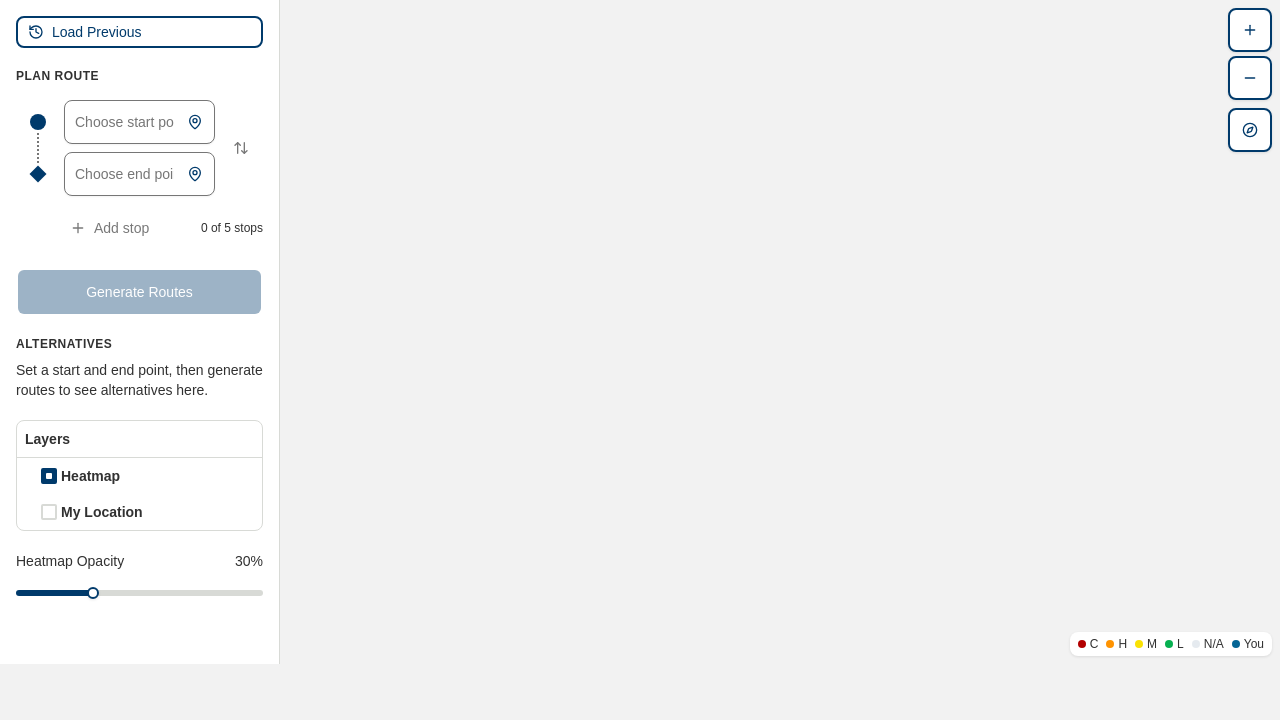
Test: PatrolPlannerPage › sending an already saved card to the heatmap does not save it again
The width and height of the screenshot is (1280, 720).
Step 1. Type "-24.3, 31.05" into the field labelled "Choose start point" → (140, 122), box [64,100,215,144]
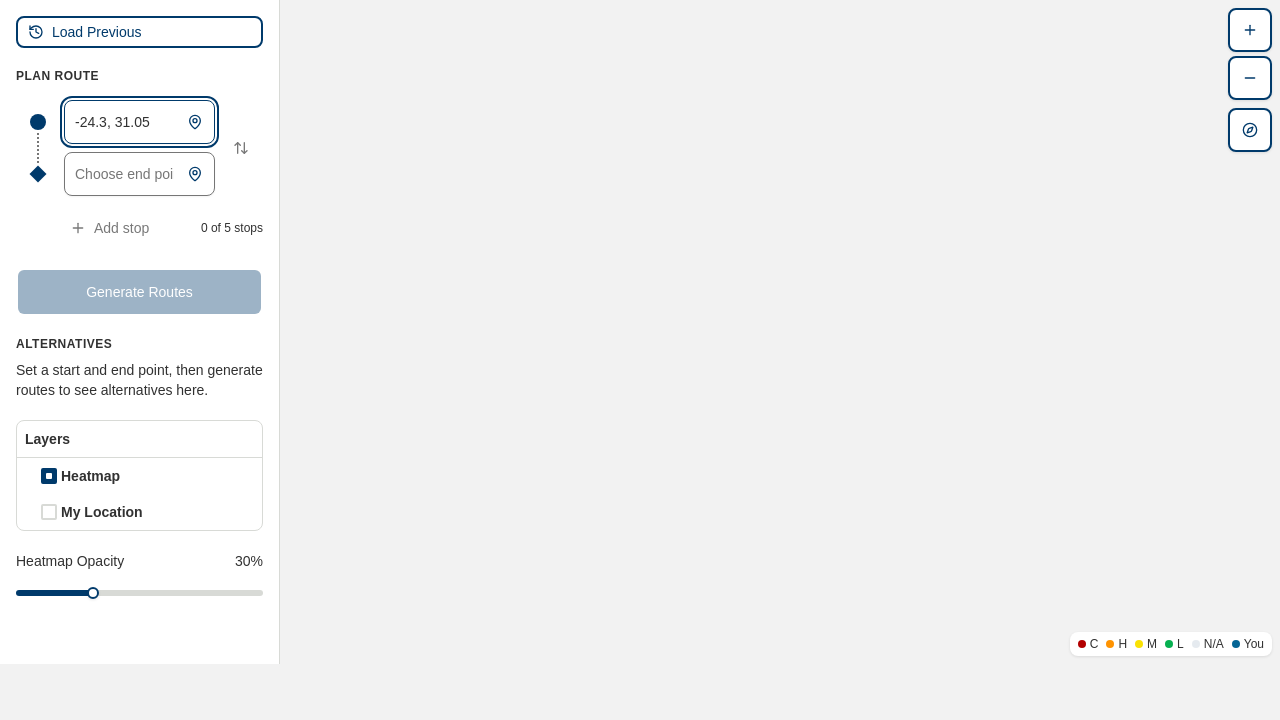
Step 2. Type "-24.32, 31.08" into the field labelled "Choose end point" → (140, 174), box [64,152,215,196]
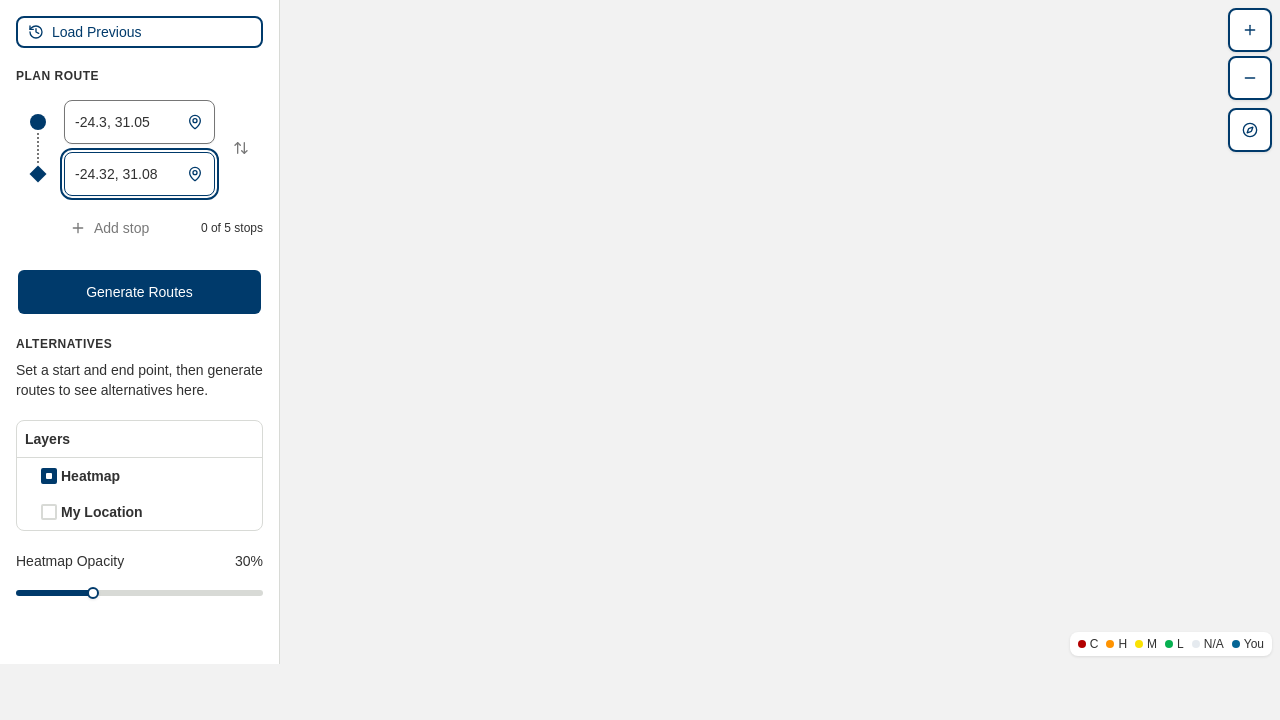
Step 3. Click the button "Generate Routes" → (140, 292), box [16,268,263,316]
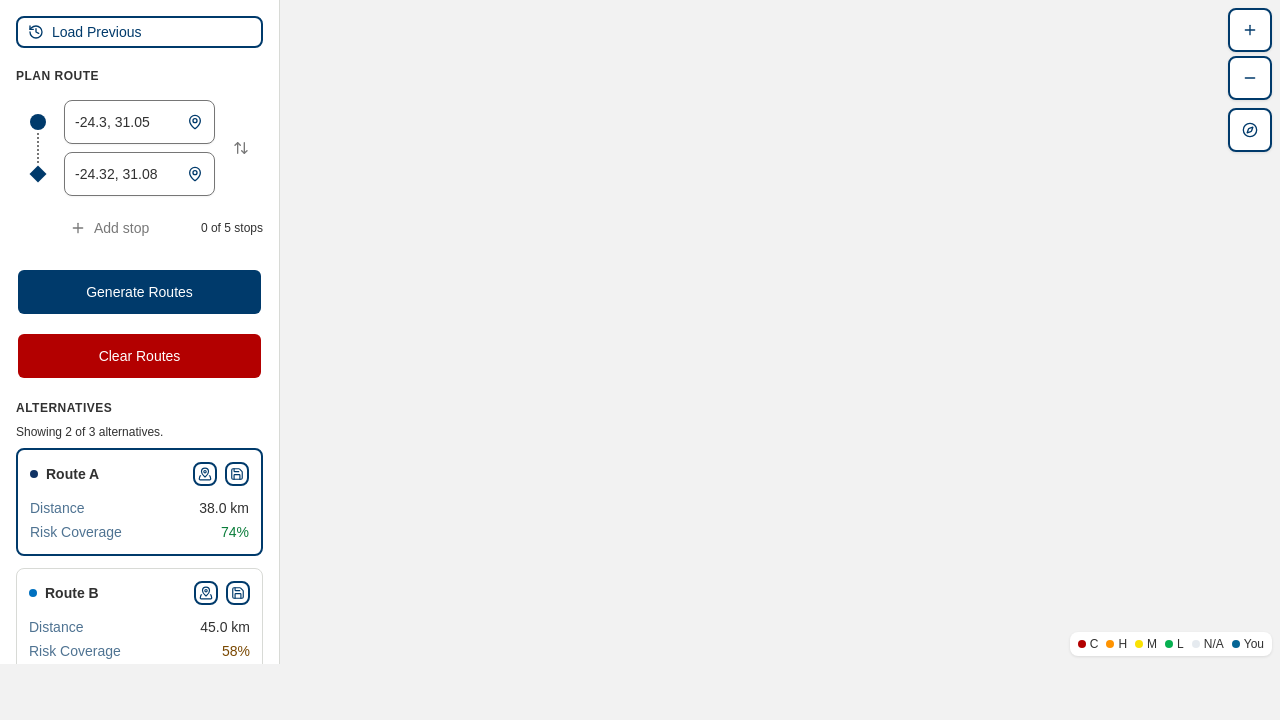
Result: the button "Route A" is shown at [46,464,185,484]
Step 4. Click the button named "save route a" → (237, 474), box [225,462,249,486]
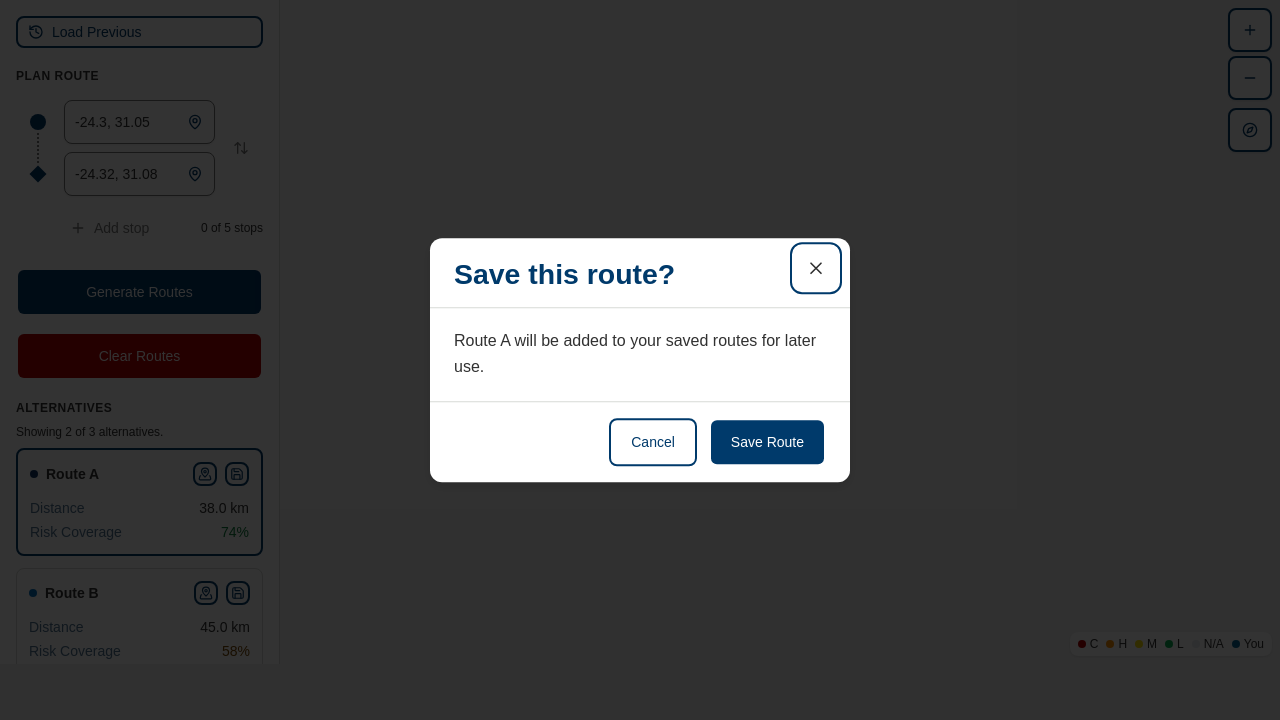
Step 5. Click the button "Save Route" → (767, 442), box [709,418,826,466]
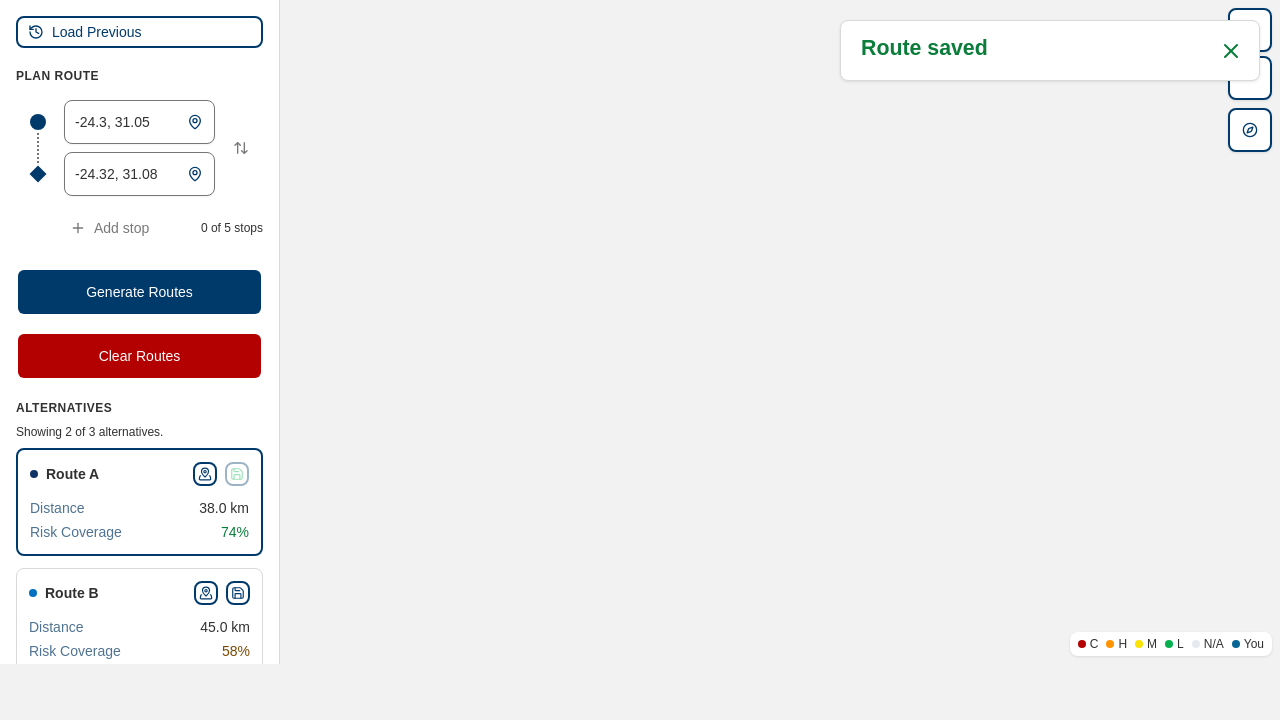
Result: the text "Route saved" is shown at [861,36,988,60]
Step 6. Click the button named "show route a on heatmap" → (205, 474), box [193,462,217,486]
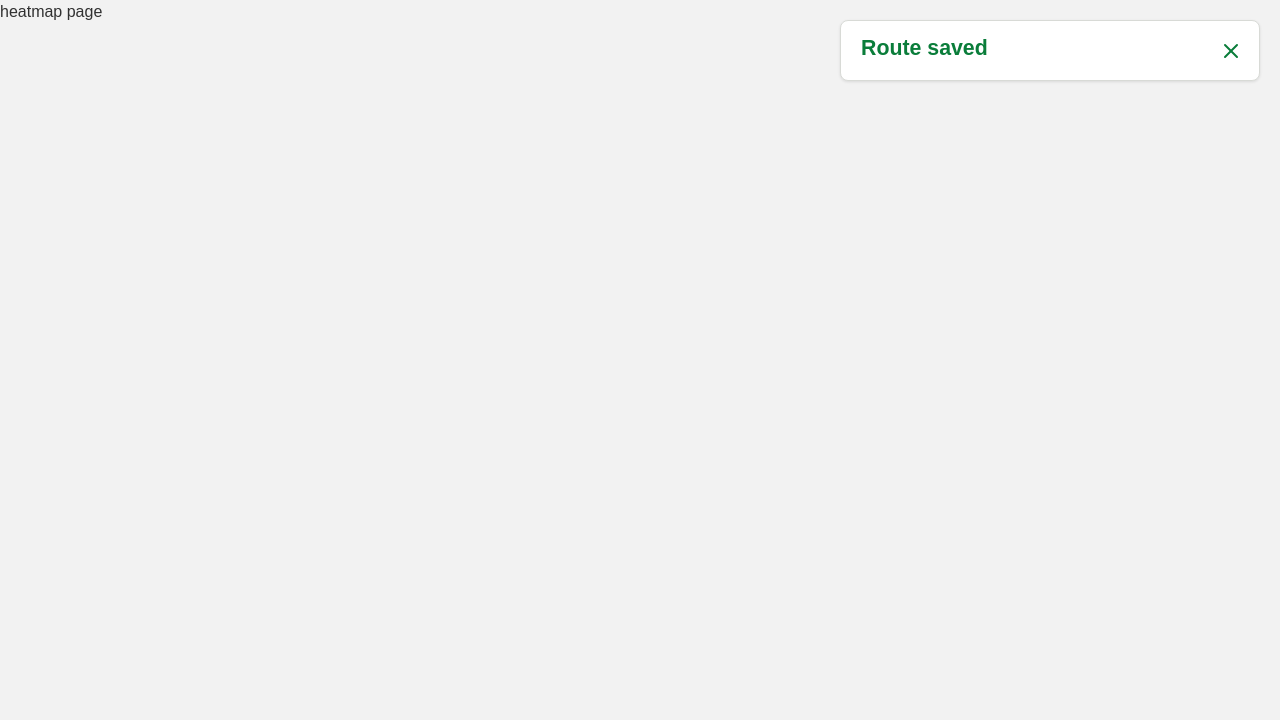
Result: the text "heatmap page" is shown at [0,3,102,20]
